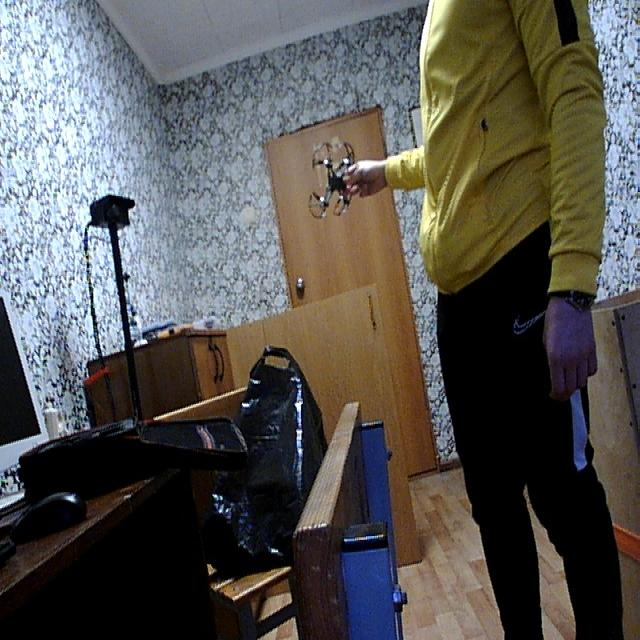drone: (301, 125, 364, 226)
